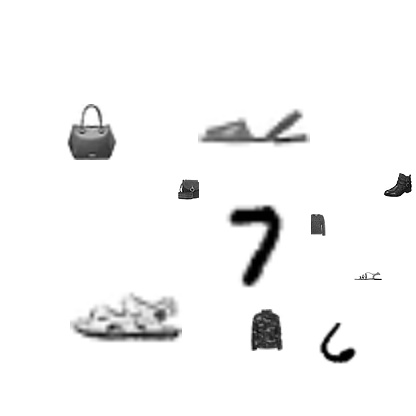6: (308, 321, 364, 377)
7: (199, 182, 311, 294)
Ankle_boot: (384, 171, 412, 199)
Bag: (64, 104, 120, 160), (178, 175, 206, 203)
Coat: (245, 309, 287, 351)
Pullover: (305, 214, 327, 236)
Sandal: (198, 70, 310, 182), (70, 261, 182, 373), (354, 262, 382, 290)
